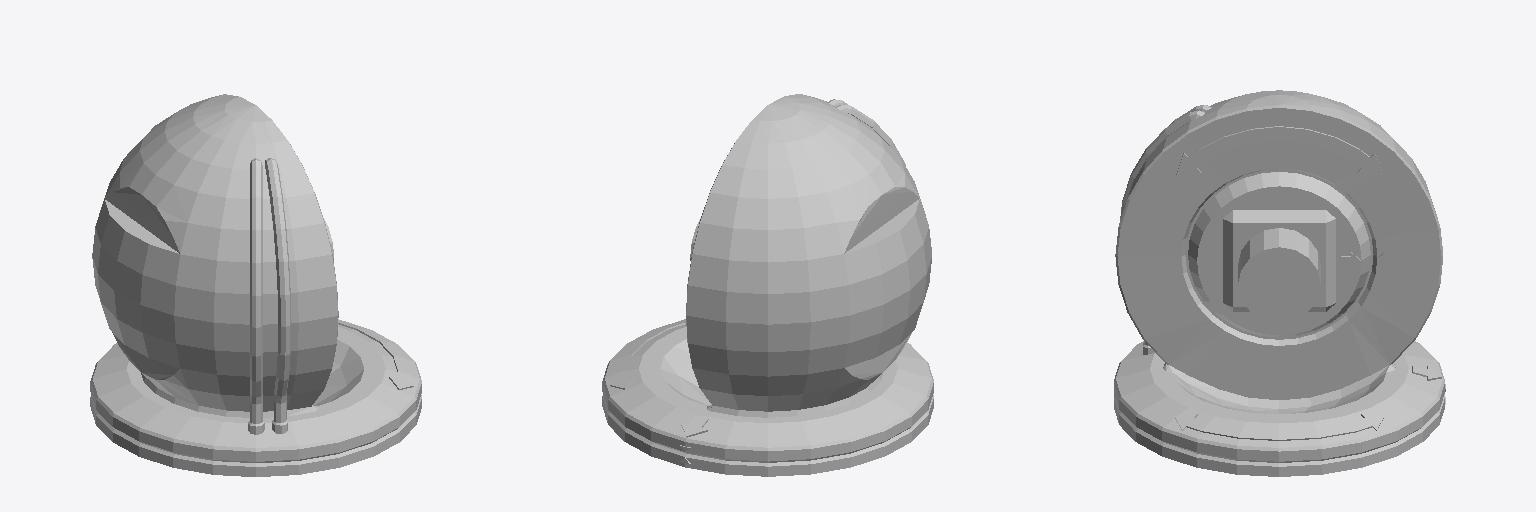
3 renders of one model, left to right at view 1: azimuth 30°, elevation 25°; view 2: azimuth 150°, elevation 25°; view 3: azimuth 270°, elevation 25°, orthographic.
Visible parts, largest first — view 1: Body_Cylinder.010, Base_Cylinder.014; view 2: Body_Cylinder.010, Base_Cylinder.014; view 3: Body_Cylinder.010, Hub_Cylinder.012, Axle_Cylinder.013, Base_Cylinder.014.
Boxes of the visible parts, x1,y1,x2,y2 form: Body_Cylinder.010: [90, 94, 421, 462]; Base_Cylinder.014: [90, 395, 421, 476]; Body_Cylinder.010: [602, 94, 933, 462]; Base_Cylinder.014: [602, 395, 933, 476]; Body_Cylinder.010: [1114, 90, 1445, 462]; Hub_Cylinder.012: [1188, 172, 1370, 336]; Axle_Cylinder.013: [1223, 210, 1335, 321]; Base_Cylinder.014: [1114, 394, 1445, 476].
Size of the model in its own units: 0.5 by 0.5024 by 0.5017.